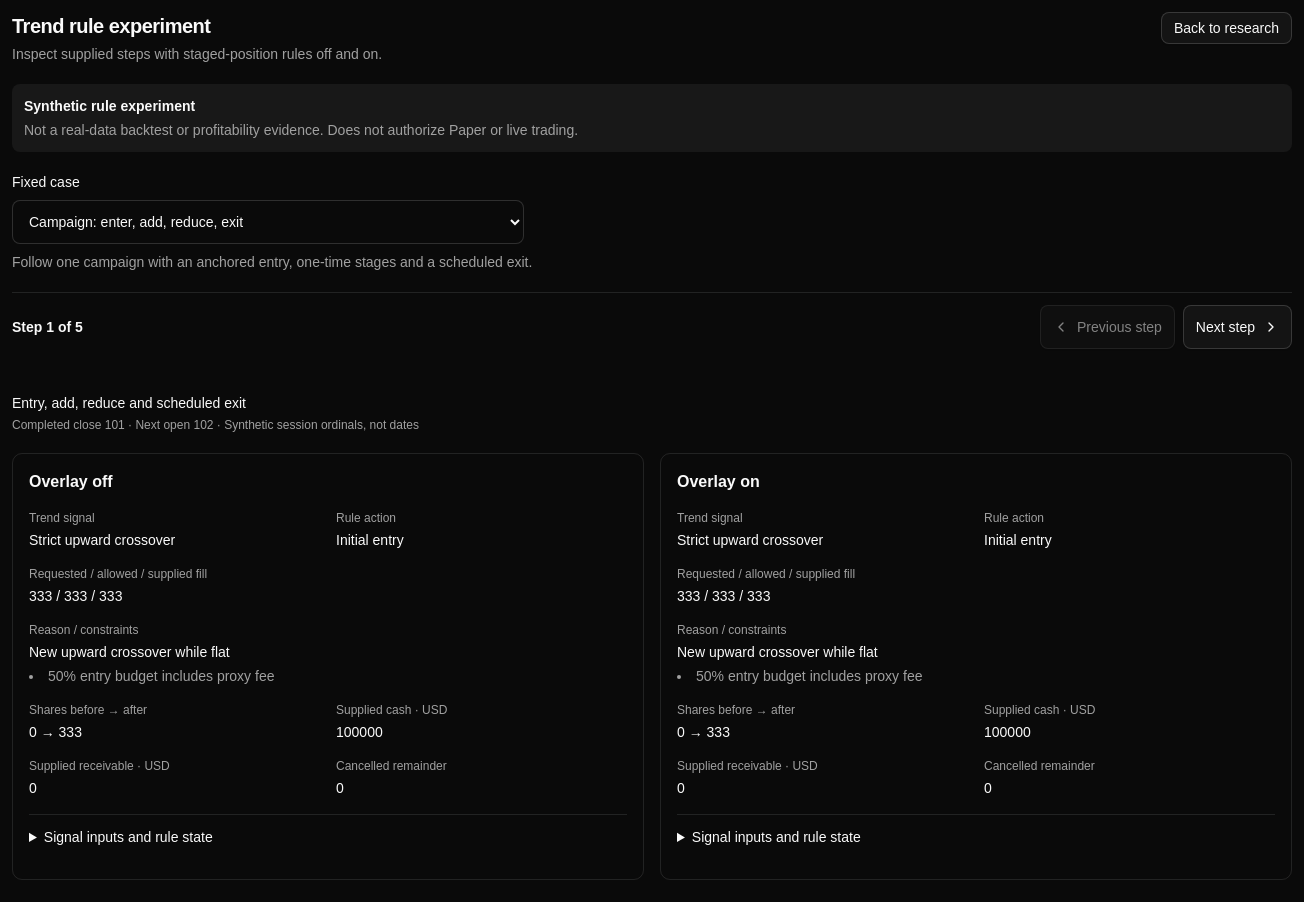
Test case: fixed synthetic trend step inspector › changes cases and explains persistent partial exits and cash constraints
Expected: the text "Step 1 of 5" is shown, [12,317,83,337]
Select "Exit: partial fills and volume cap" in the dropdown labelled "Fixed case". click: (268, 222)
box: [12,200,524,244]
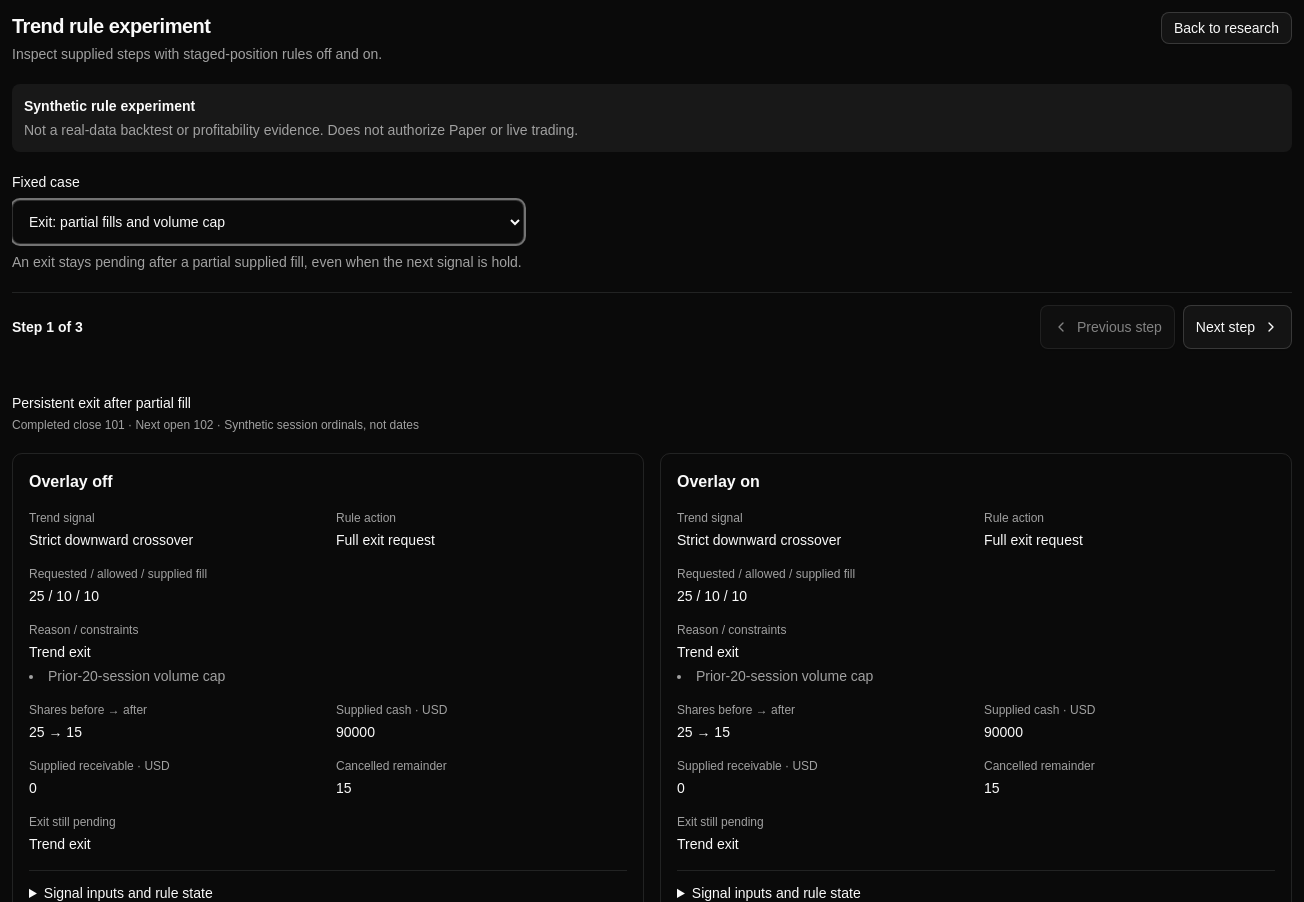
Expected: the number of list items "Prior-20-session volume cap" is 2, [48,668,225,684]; [696,668,873,684]
Now the text "Step 1 of 3" is shown, box [12,317,83,337]
Click the button "Next step". click: (1237, 327)
box: [1183,305,1292,349]
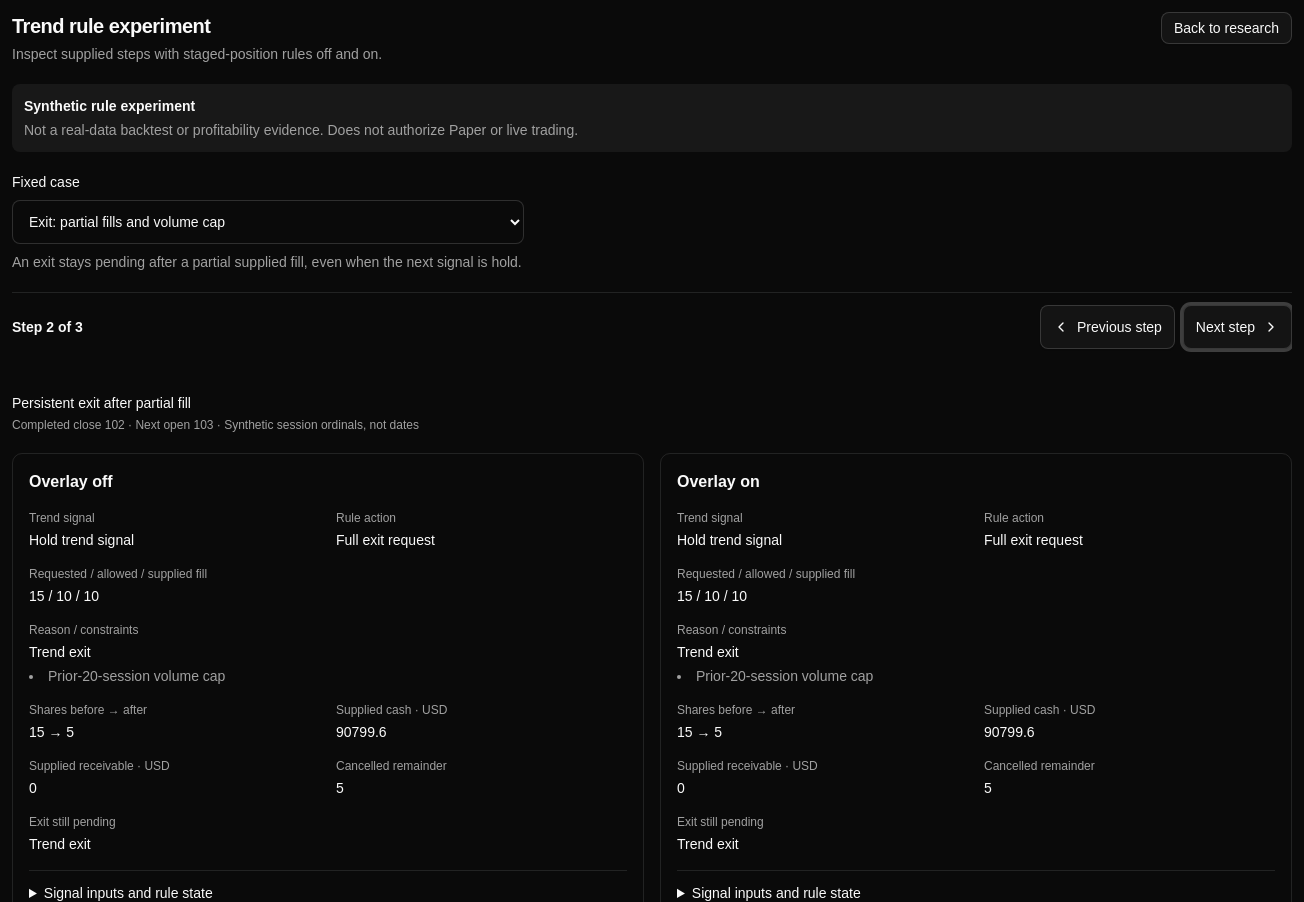
Now the 1st text "Trend exit" is shown, box [29,644,91,660]
Now the text "Hold trend signal" is shown 2 times, box [29,532,134,548]; [677,532,782,548]
Now the text "15 → 5" is shown 2 times, box [29,724,74,740]; [677,724,722,740]
Select "Buy limits: cash and concentration" in the dropdown labelled "Fixed case". click: (268, 222)
box: [12,200,524,244]
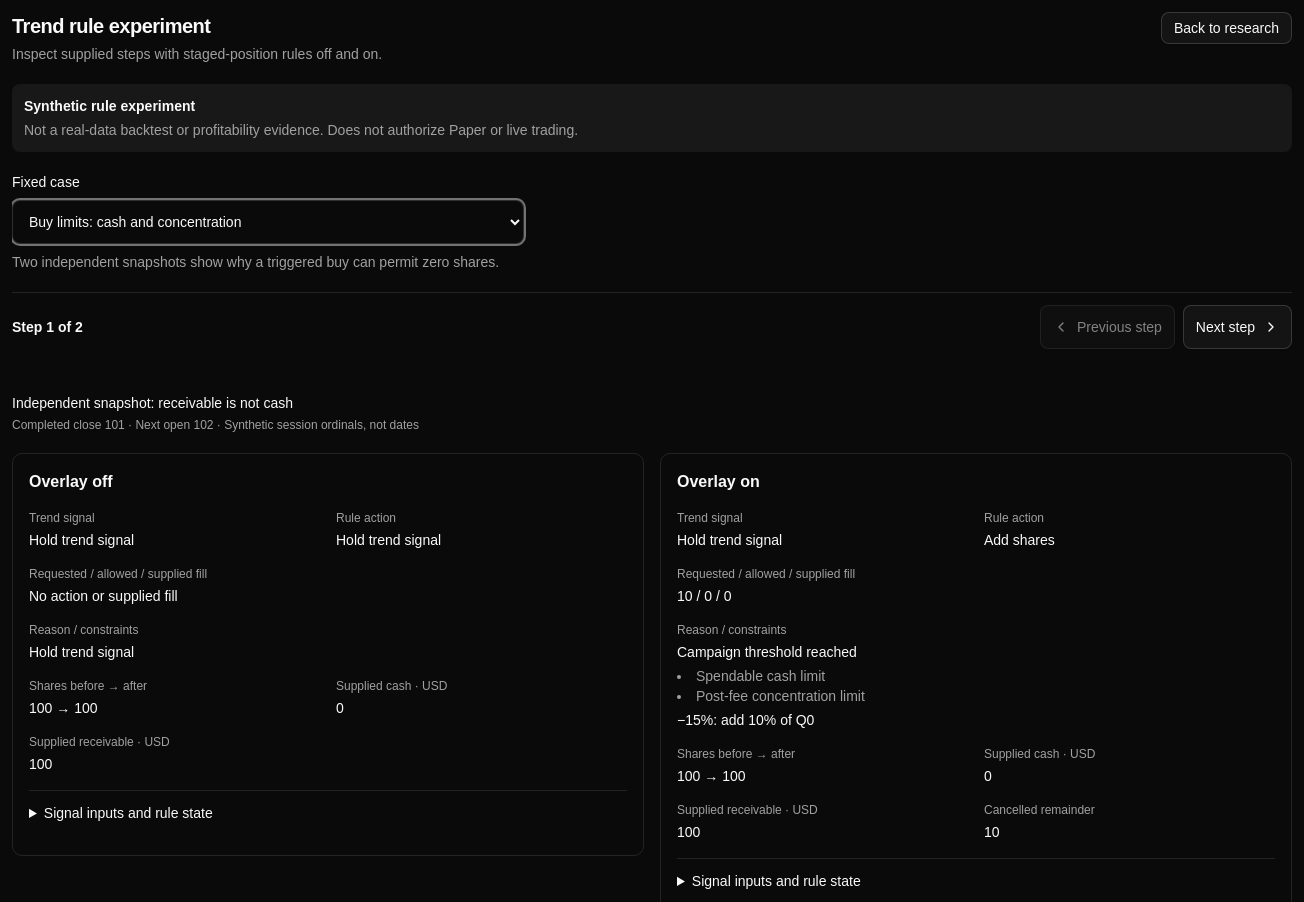
Now the text "Step 1 of 2" is shown, box [12,317,83,337]
Now the list item "Spendable cash limit" is shown, box [696,668,825,684]
Now the text "100" below "Cancelled remainder" is shown, box [677,824,700,840]
Click the button "Next step". click: (1237, 327)
box: [1183,305,1292,349]
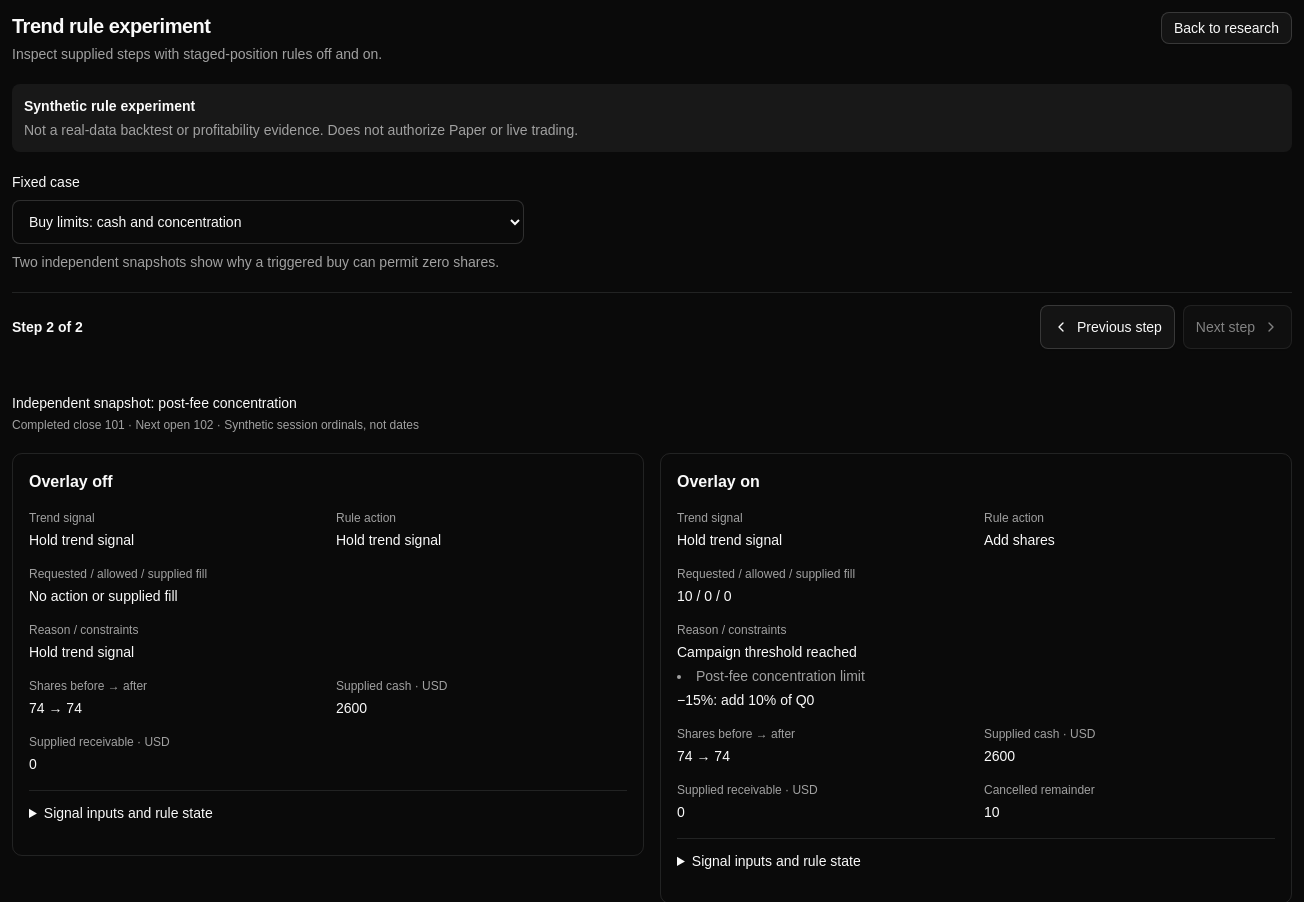
Now the list item "Post-fee concentration limit" is shown, box [696,668,865,684]
Now the button "Next step" is disabled, box [1183,305,1292,349]
